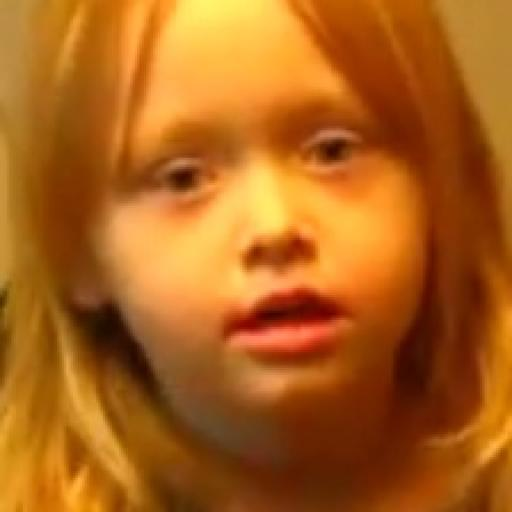Autism: (56, 0, 474, 500)
